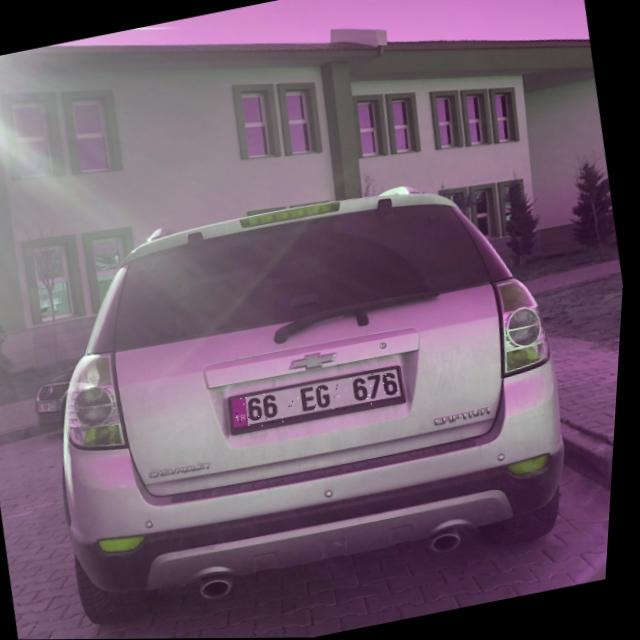license_plate: (234, 367, 410, 432)
